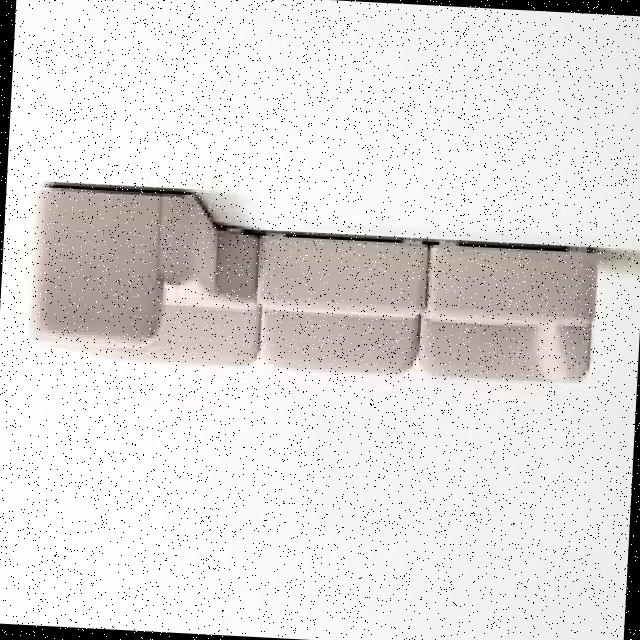Sofa: (2, 134, 634, 430)
